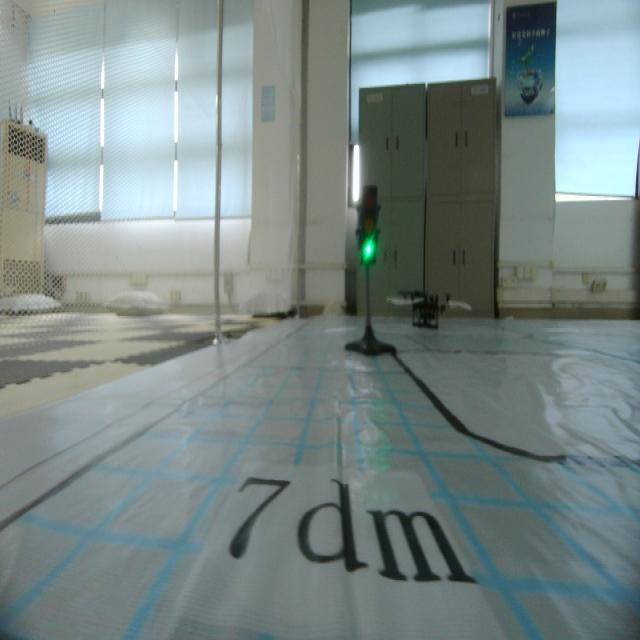green: (353, 184, 382, 273)
